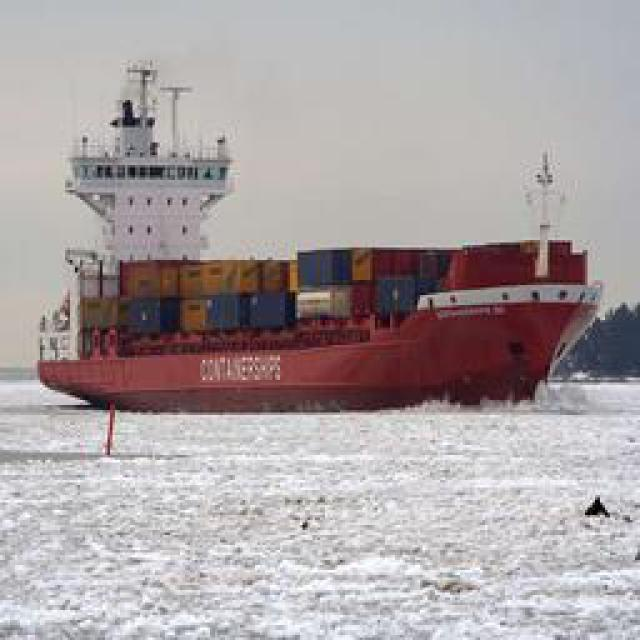Ship: (43, 232, 608, 415)
